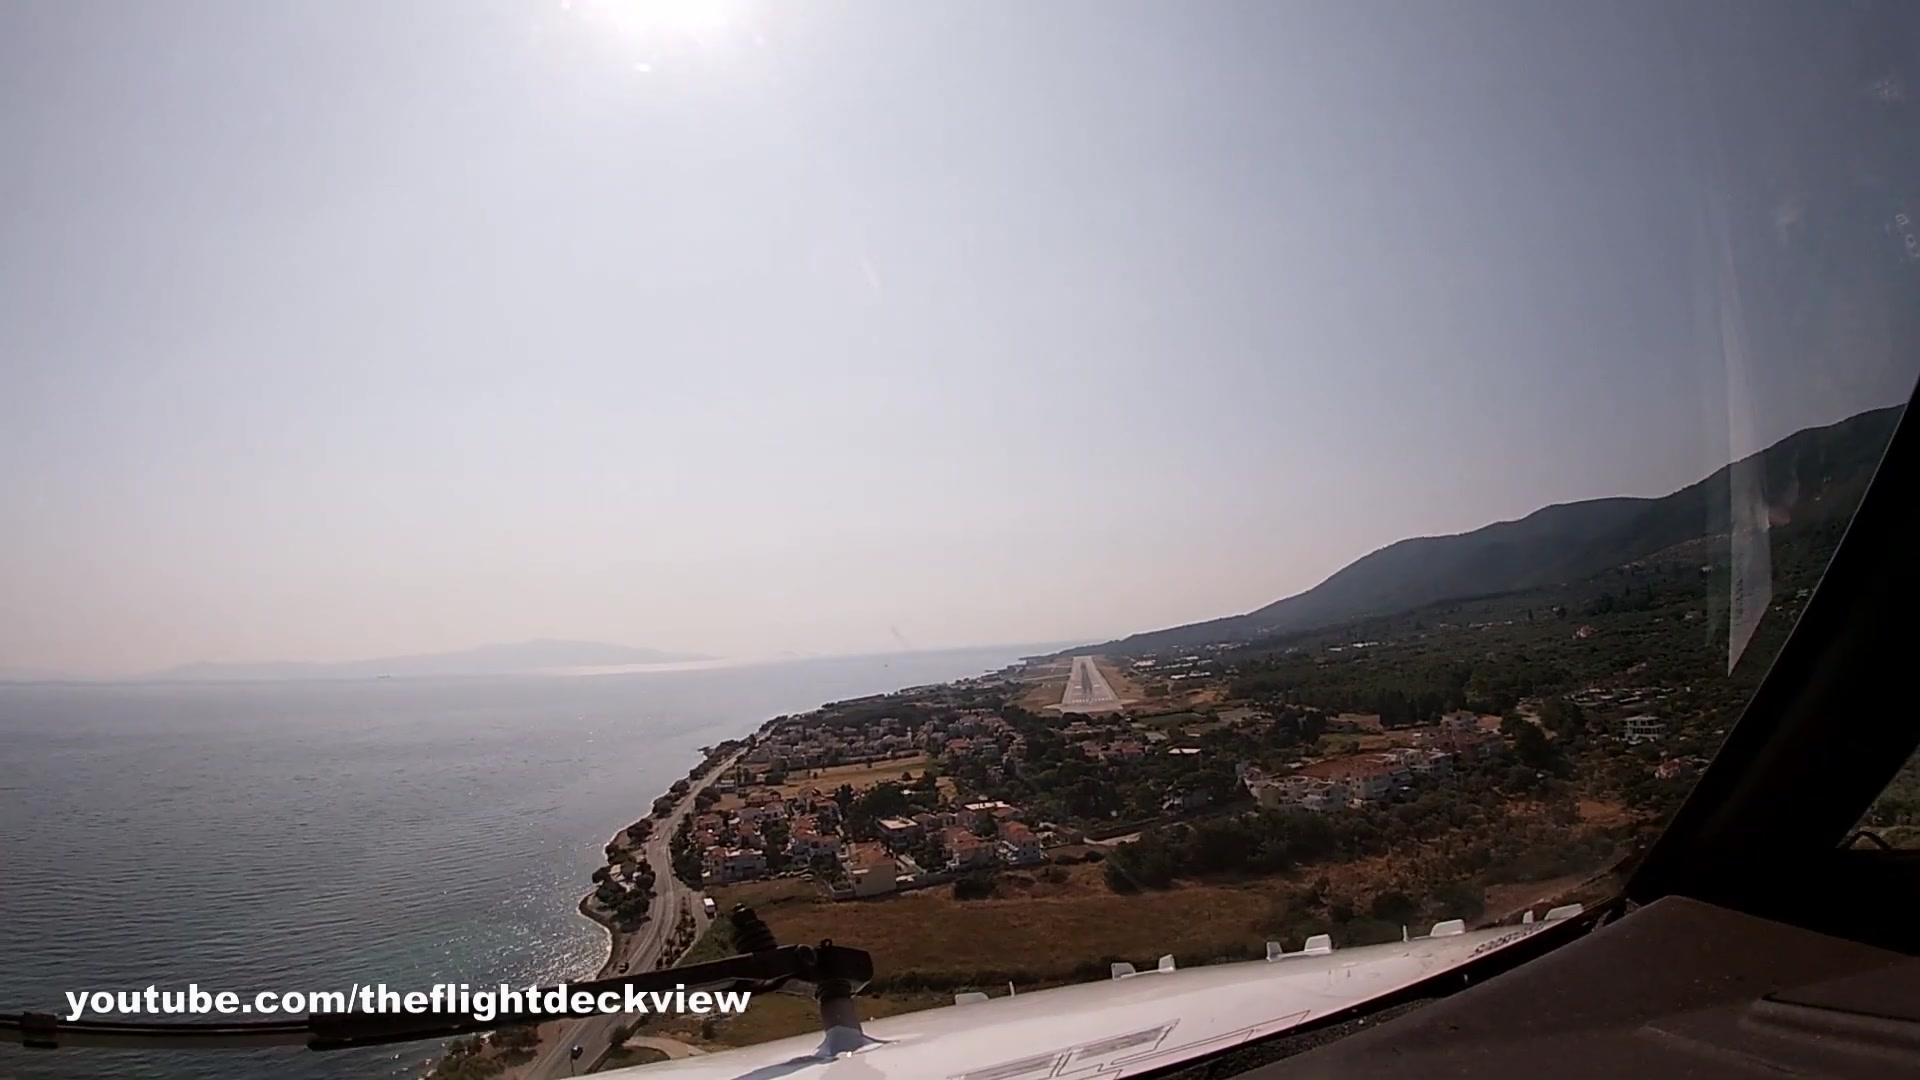entrance: (1069, 695, 1113, 703)
runway: (1063, 654, 1124, 713)
